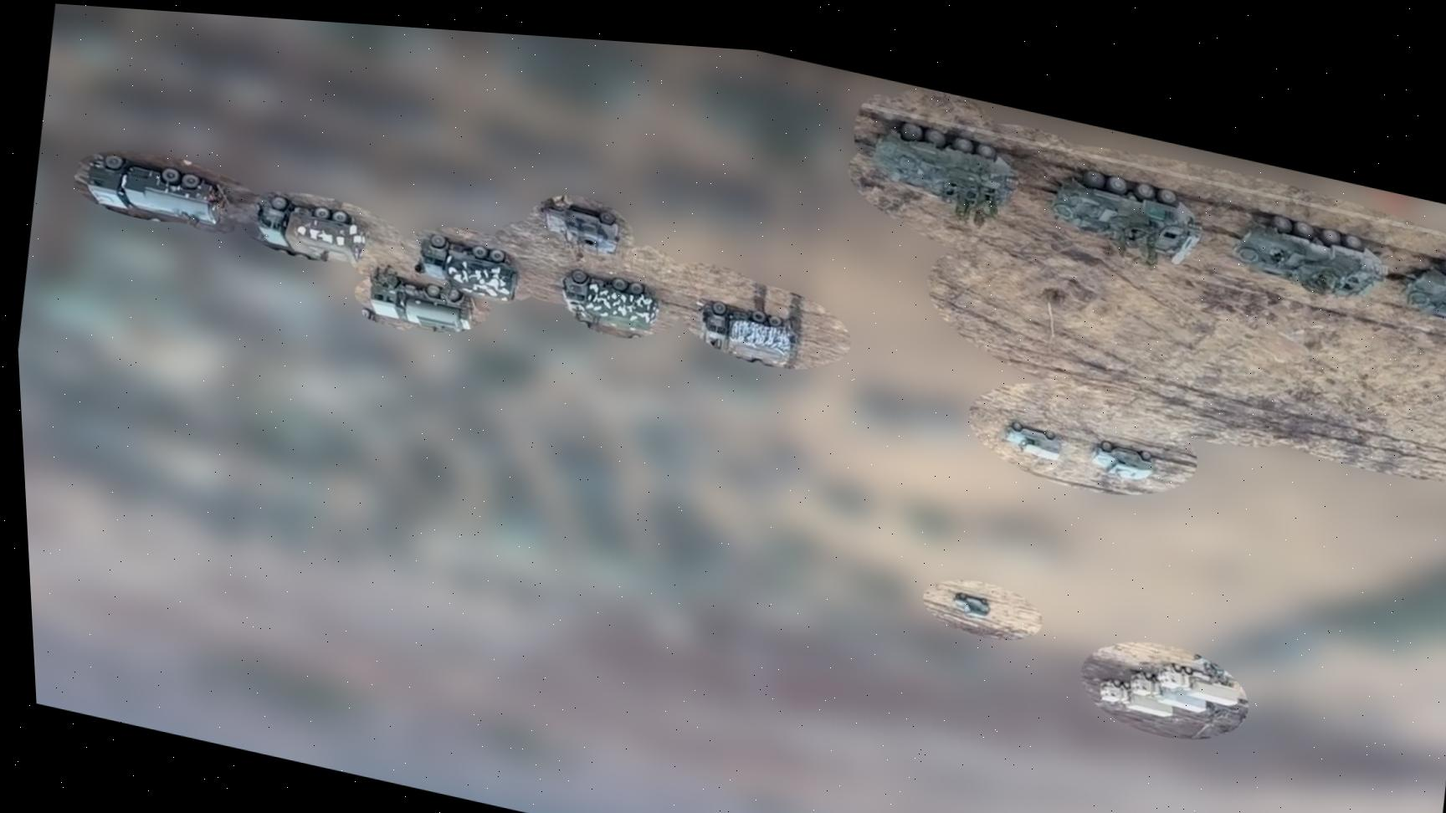armored_car: (861, 113, 1028, 220), (1045, 161, 1212, 267), (1227, 204, 1394, 309), (535, 194, 625, 258), (1392, 249, 1446, 339), (1088, 437, 1158, 486), (1001, 420, 1065, 466), (952, 588, 994, 623)
truck: (78, 146, 232, 237), (247, 187, 370, 271), (362, 270, 479, 339), (414, 231, 524, 303), (555, 264, 665, 336), (693, 297, 800, 368), (1155, 660, 1243, 708)
